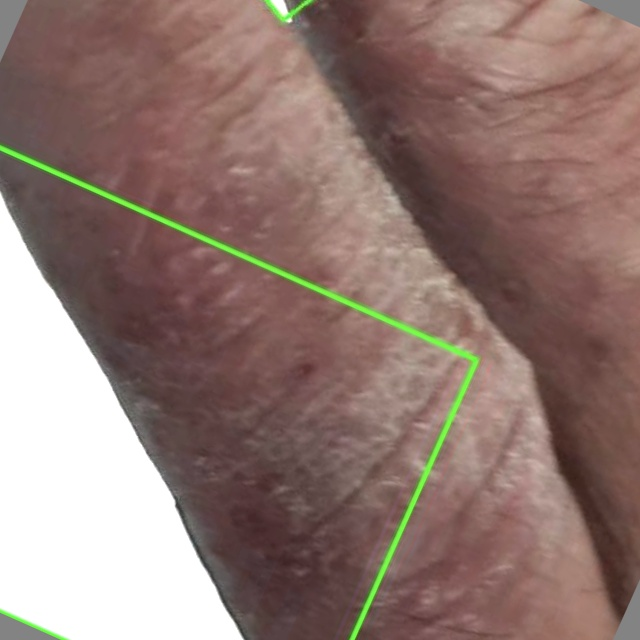Contact Dermatitis: (0, 147, 476, 639)
